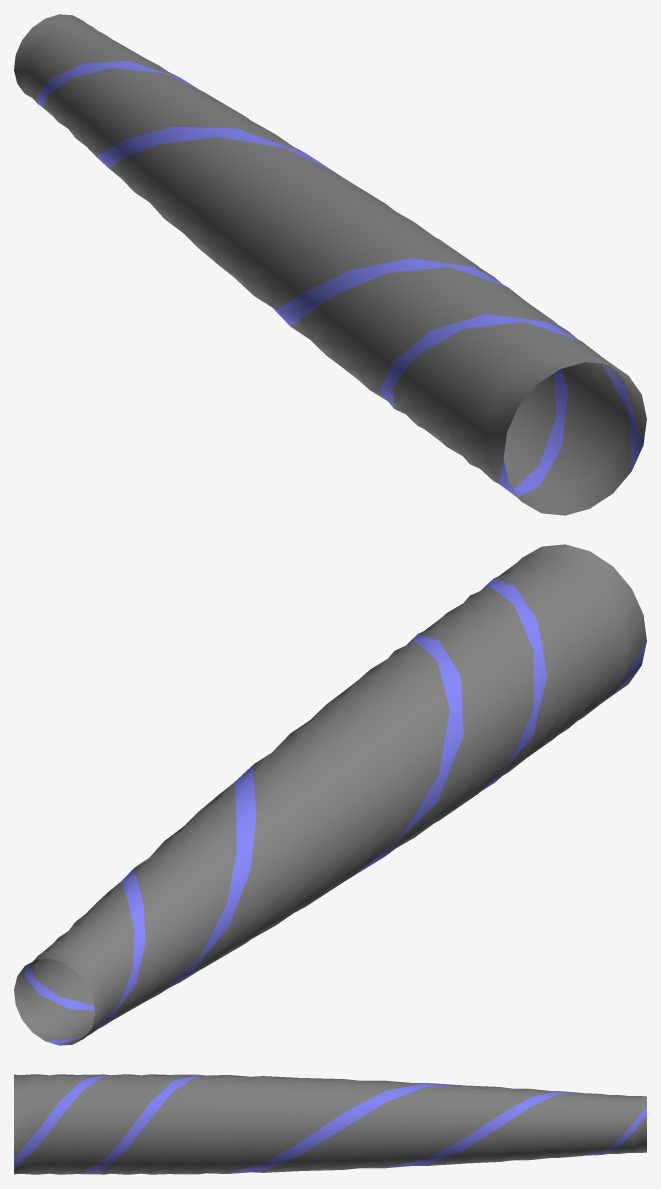
Rendered from TunnelLP 1.fbx.
The picture shows the model from 3 angles, top to bottom: view 1: azimuth 30°, elevation 25°; view 2: azimuth 150°, elevation 25°; view 3: azimuth 270°, elevation 25°; orthographic projection. The views are drawn at different scales.
Visible parts, largest first — view 1: Tunel001; view 2: Tunel001; view 3: Tunel001.
Part boxes in pixels (box(x1,y1,x2,y2)): Tunel001: box(14, 14, 646, 515); Tunel001: box(14, 544, 646, 1045); Tunel001: box(14, 1074, 646, 1174).
Size of the model in its own units: 2.98 by 18.75 by 2.98.
